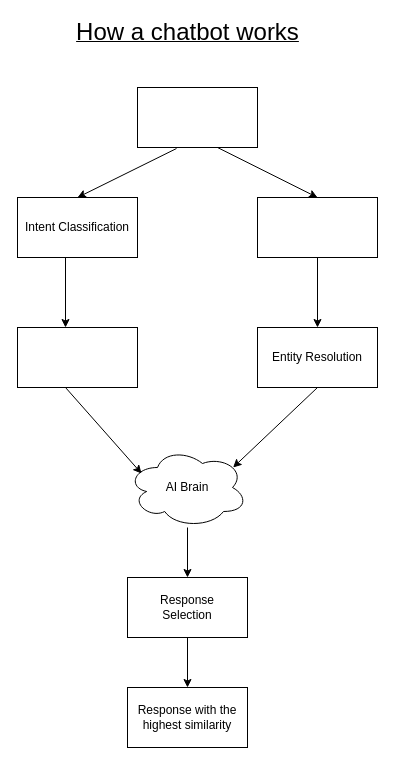
Some shapes in this 395 by 765 pixel diagram are drawn without their labels. Each missing label, with the centre of its shape:
Enitity Resolution: point (317, 227)
Intent: point (77, 357)
Message: point (197, 117)
